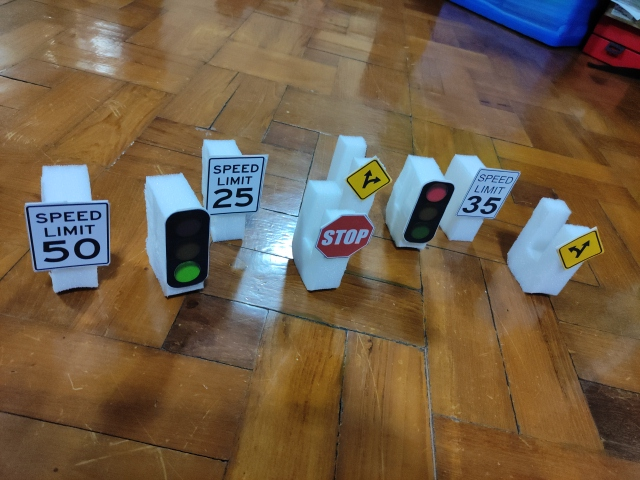Green Traffic Light: (164, 210, 211, 289)
Red Traffic Light: (404, 181, 455, 244)
Speed Limit 25: (205, 154, 266, 215)
Speed Limit 35: (456, 168, 520, 219)
Speed Limit 50: (23, 200, 111, 272)
Stop Sign: (315, 214, 375, 260)
Straight Or Left Sign: (557, 228, 605, 270)
Straight Or Right Sign: (346, 156, 392, 200)
